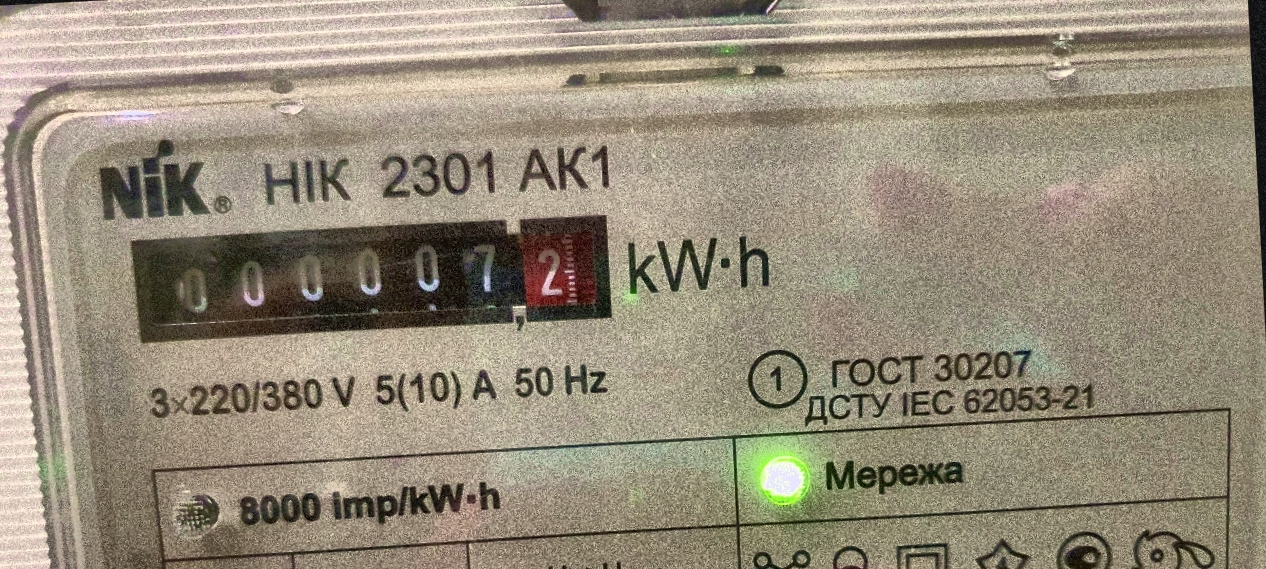0: (234, 255, 271, 309), (294, 250, 328, 304), (410, 242, 444, 296), (352, 244, 385, 299), (178, 263, 212, 316)
2: (534, 246, 567, 299)
7: (468, 240, 501, 296)
screen: (113, 195, 633, 363)
